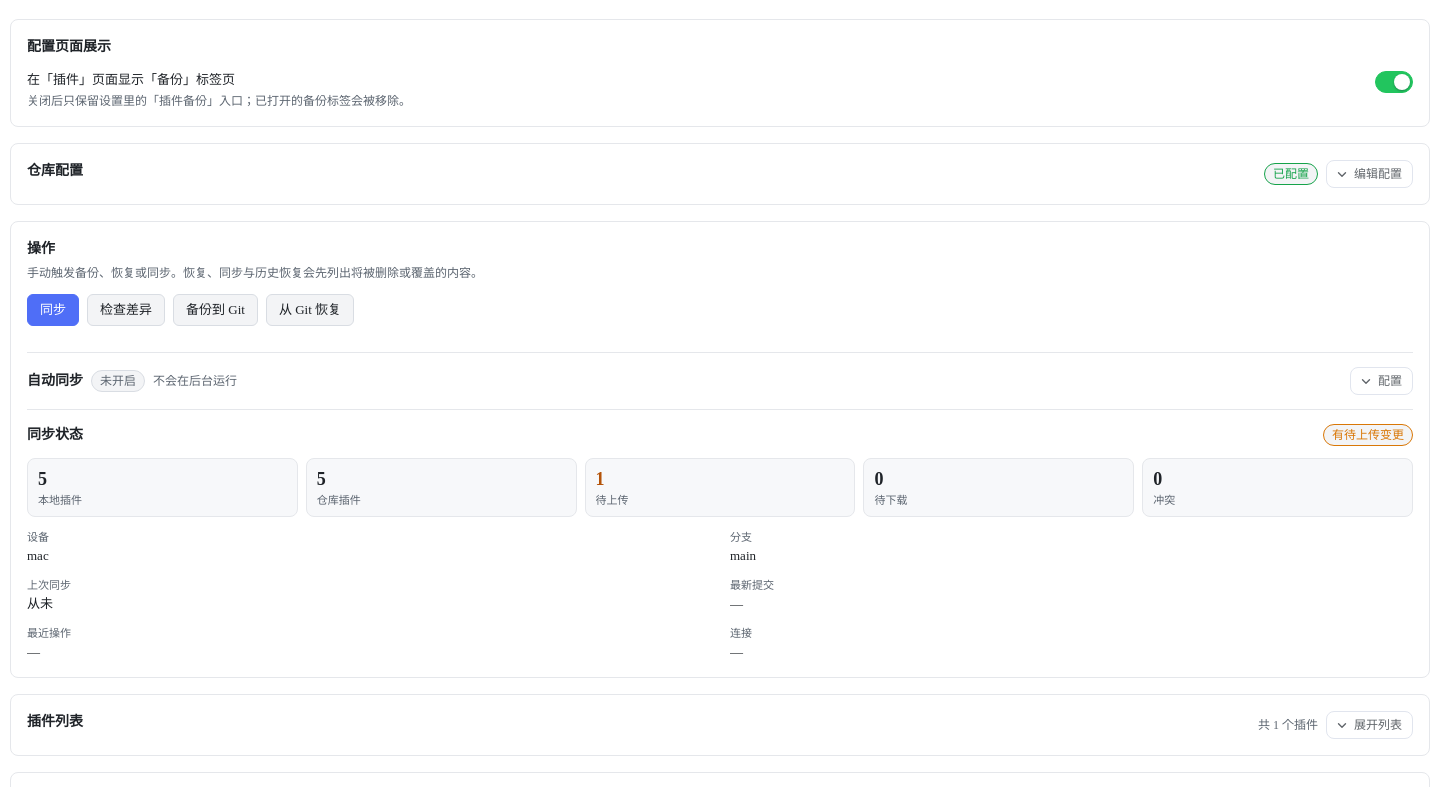
Test: settings page render › starts the plugin list collapsed and expands on demand
expect the element with id "dgs-plugins-filter" is shown: met, box [10,694,1430,756]
Click the button "展开列表". click: click(1370, 725)
box: [1326,711,1413,739]
(page scrolled)
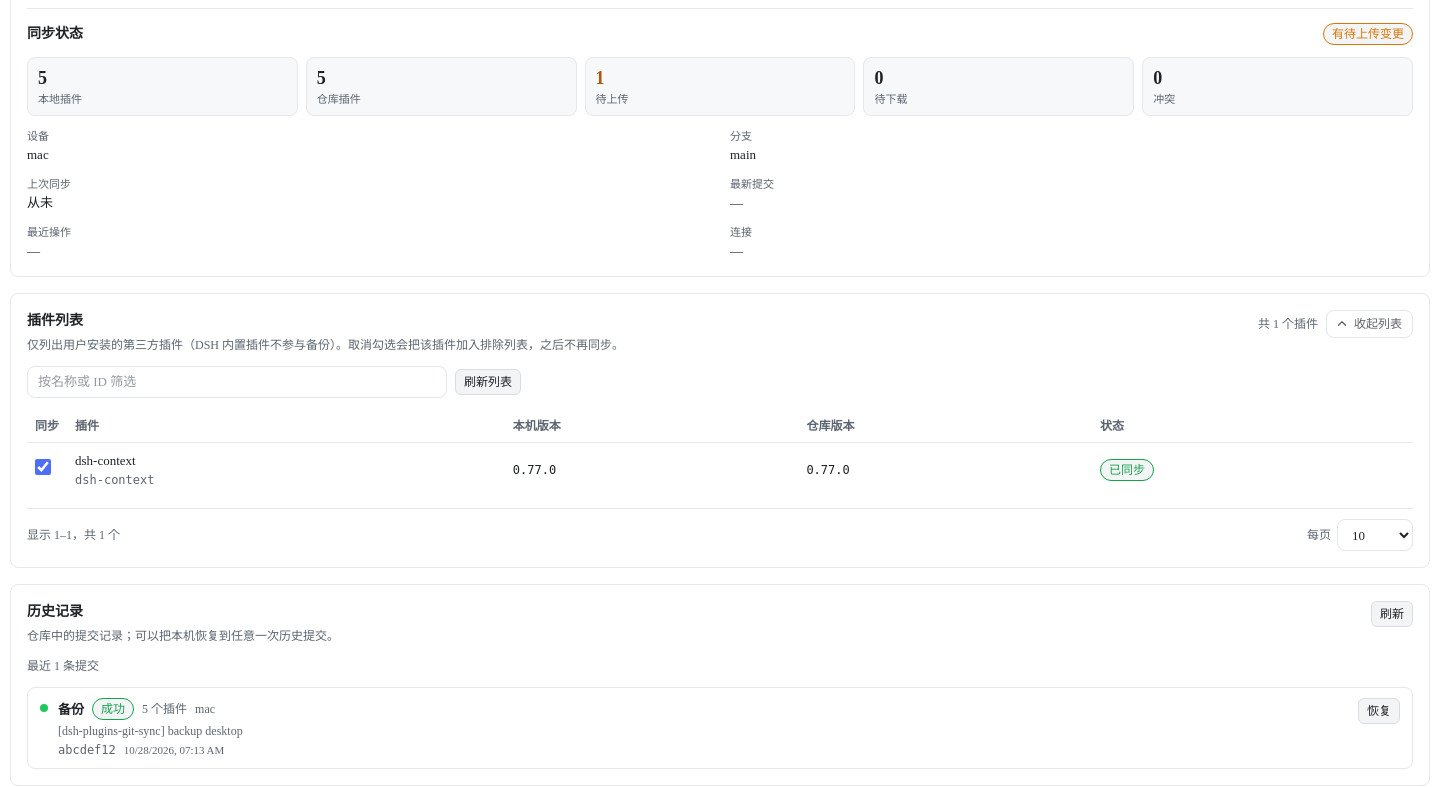
expect the search field with id "dgs-plugins-filter" is shown: met, box [27,366,447,398]
expect the element with class "dgs-pluginsFilterRow" reads "刷新列表": met, box [455,369,521,395]
